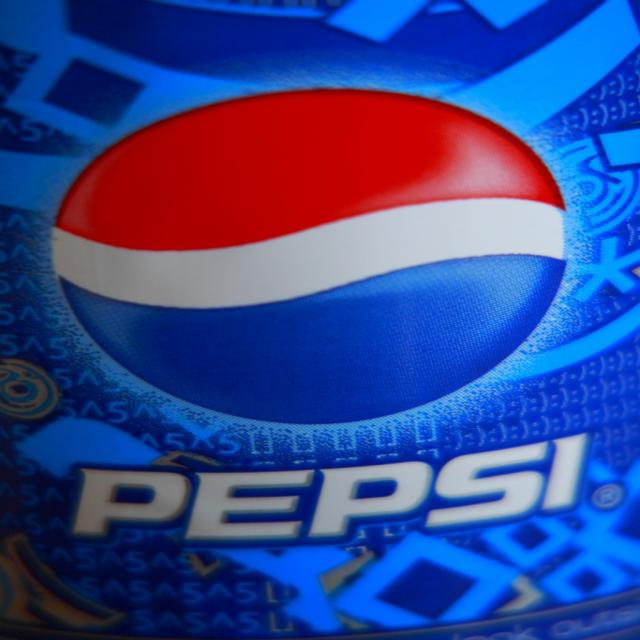pepsi: (43, 84, 580, 429)
